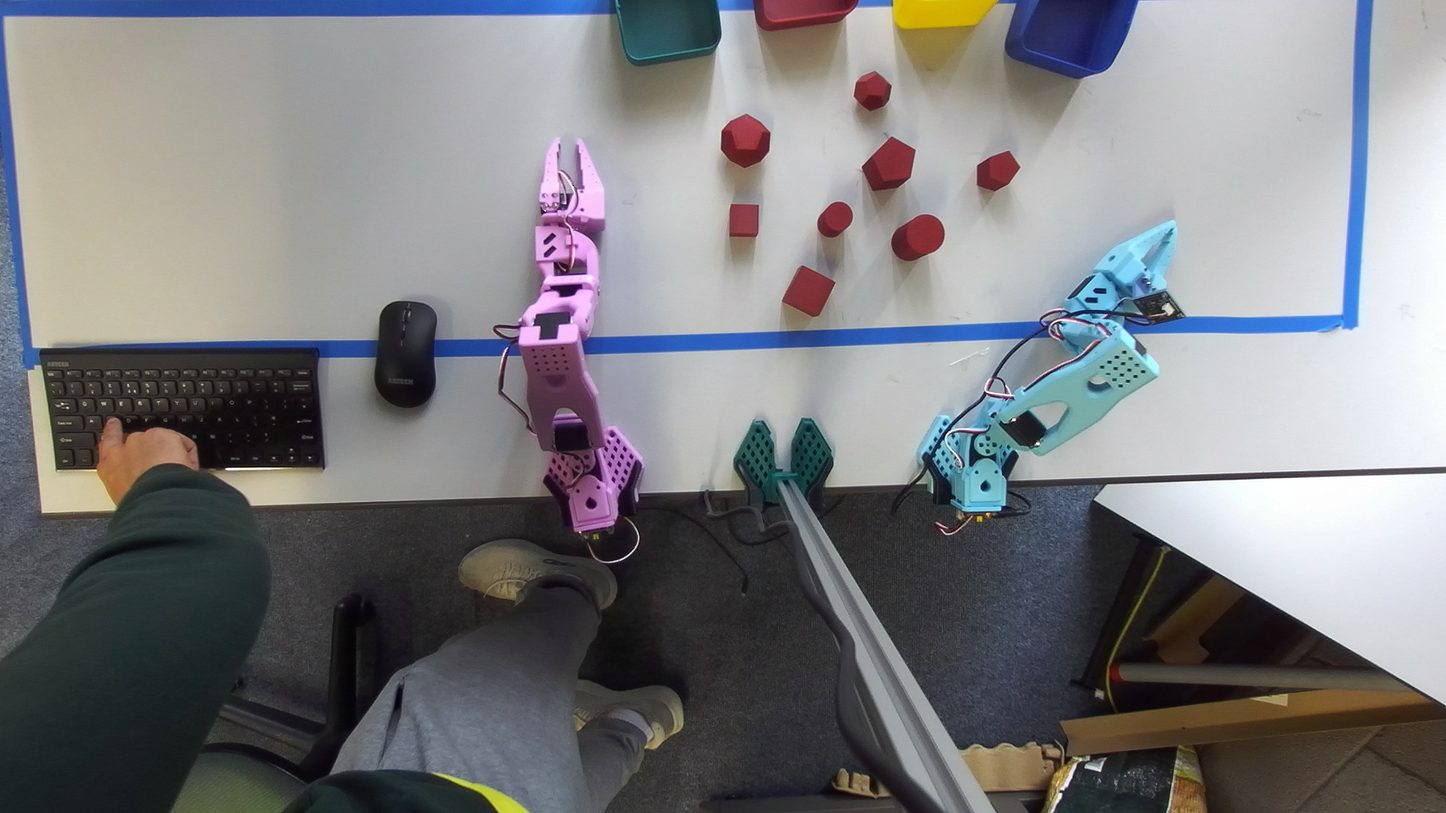bin: (1005, 0, 1136, 78), (615, 0, 721, 65), (753, 0, 857, 30), (892, 0, 996, 28)
cube: (782, 266, 834, 316), (729, 204, 758, 237)
cylinder: (891, 215, 944, 260), (817, 202, 853, 237)
dodecahedron: (721, 115, 770, 166), (853, 72, 891, 110)
gripper: (538, 137, 604, 233), (1094, 221, 1177, 297)
hexagonal: (862, 137, 914, 190), (976, 151, 1019, 190)
